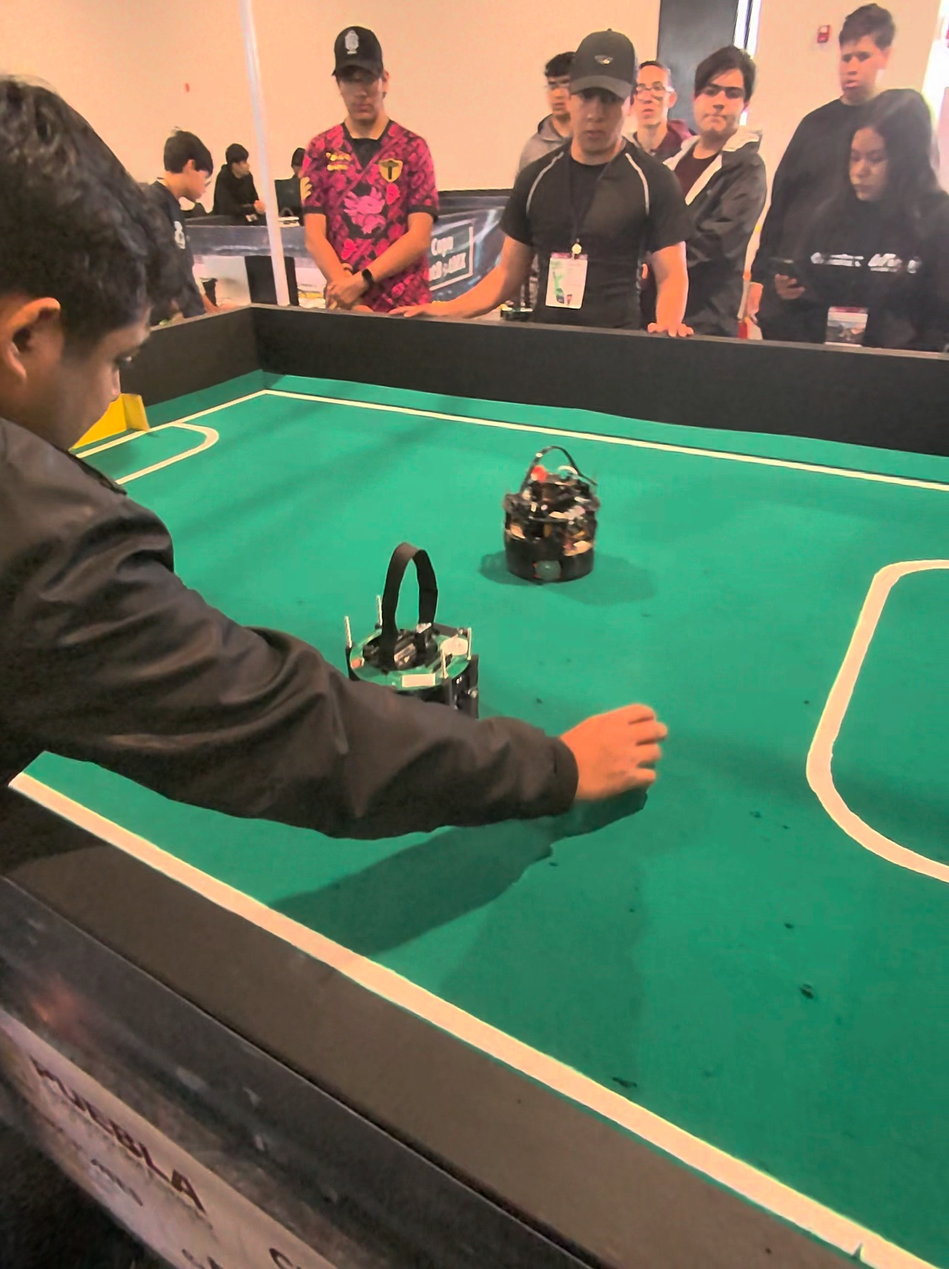Robot: (341, 543, 483, 738), (494, 440, 599, 589)
